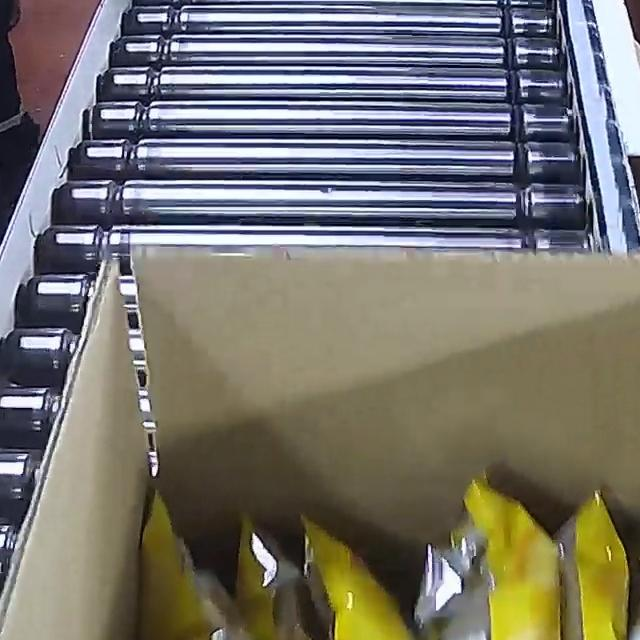salted: (127, 450, 640, 640)
